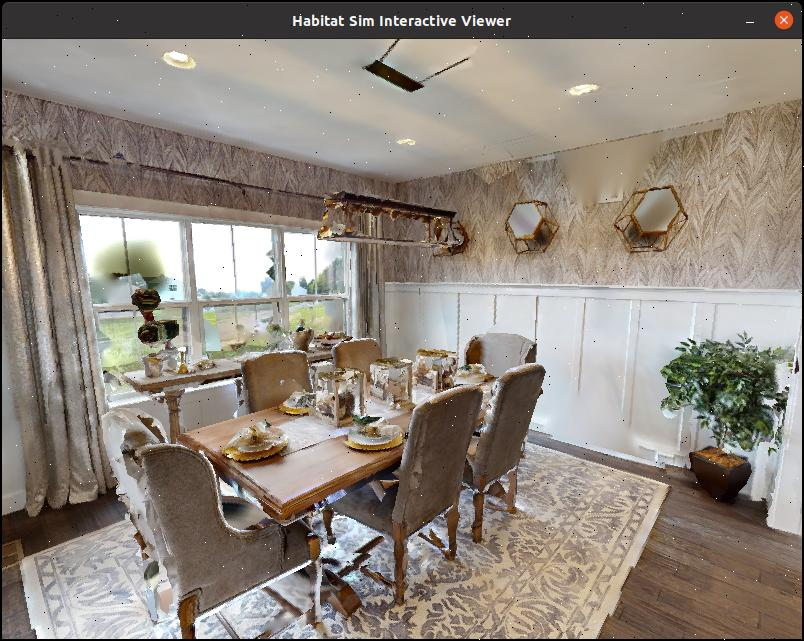chair: (82, 405, 332, 641), (323, 366, 494, 611), (438, 356, 565, 551)
table: (161, 345, 508, 546)
